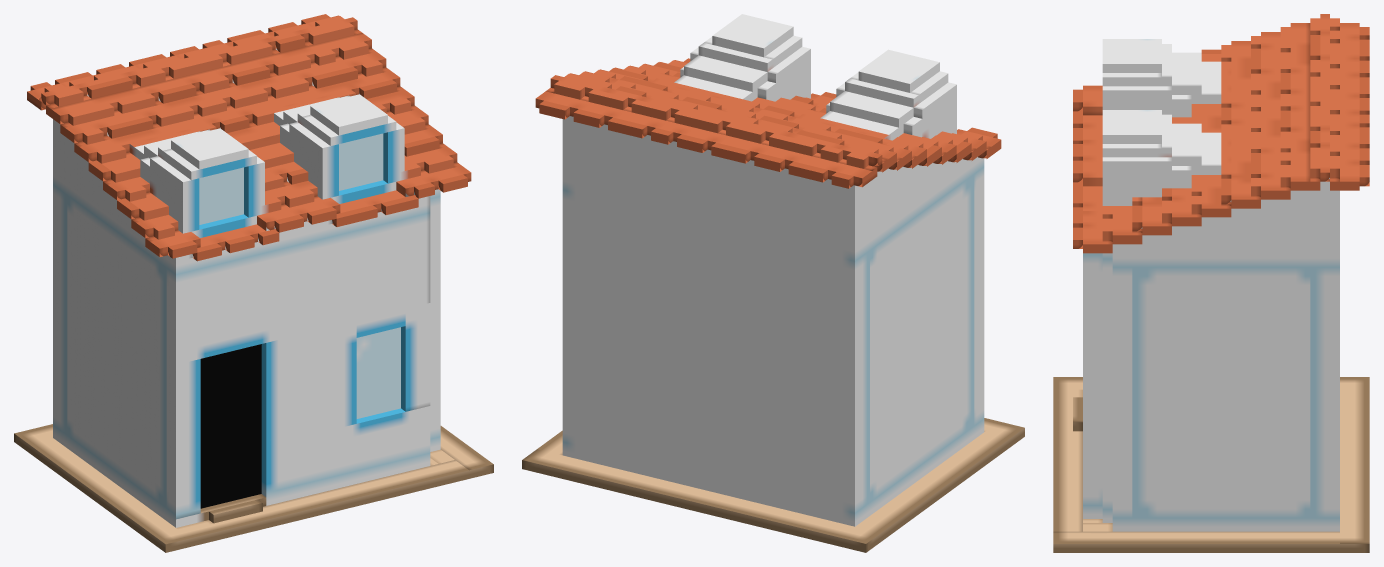
File: VillageEldersHouse1.obj
The picture shows the model from 3 angles, left to right: view 1: azimuth 30°, elevation 25°; view 2: azimuth 150°, elevation 25°; view 3: azimuth 270°, elevation 25°; orthographic projection. The views are drawn at different scales.
Parts seen in each view (by area): view 1: Model; view 2: Model; view 3: Model.
Boxes of the visible parts, x1=… form: Model: x1=14, y1=14, x2=493, y2=552; Model: x1=522, y1=14, x2=1024, y2=552; Model: x1=1053, y1=14, x2=1369, y2=552.
Size of the model in its own units: 30.48 by 32 by 24.38.
Materials: 1 (1 with a texture image).
